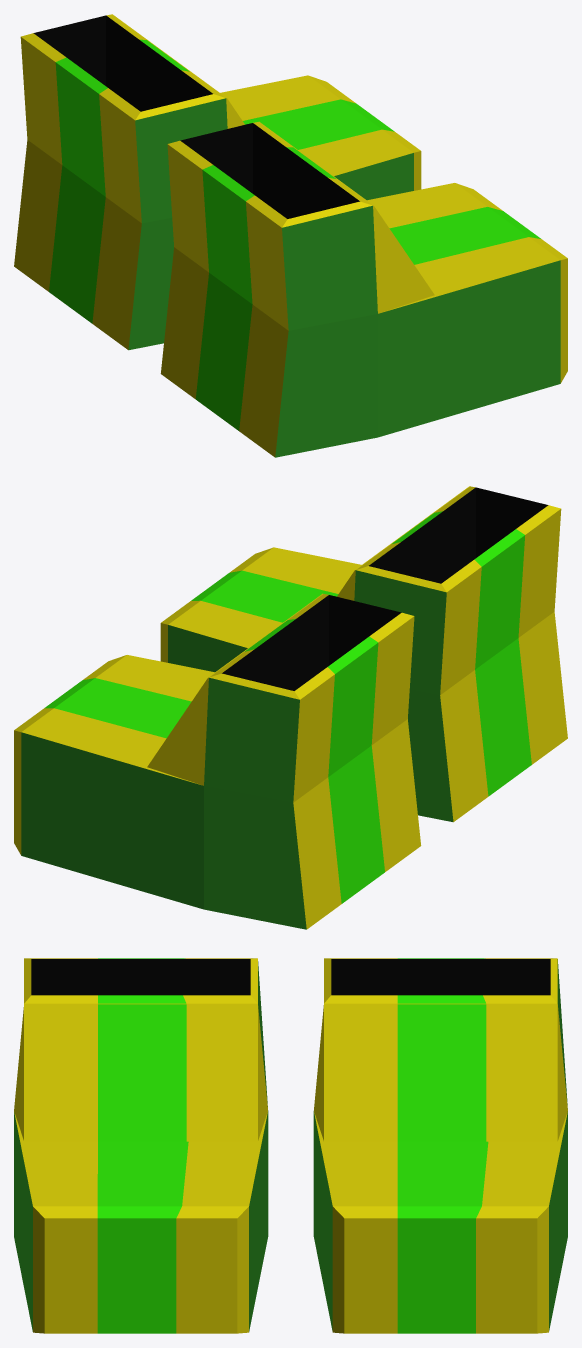
File: ZapatosVelocidad.fbx
3 views of the same model, one above another, from view 1: azimuth 30°, elevation 25°; view 2: azimuth 150°, elevation 25°; view 3: azimuth 270°, elevation 25° (orthographic). The views are drawn at different scales.
Visible parts, largest first — view 1: Cube.003, Cube, Cube.007, Cube.001, Cube.006, Cube.004, Cube.005, Cube.002; view 2: Cube.004, Cube.007, Cube, Cube.006, Cube.001, Cube.003, Cube.002, Cube.005; view 3: Cube.007, Cube, Cube.006, Cube.001, Cube.002, Cube.005, Cube.004, Cube.003.
Boxes of the visible parts, box(x1,y1,x2,y2) form: Cube.003: box(275, 205, 560, 457); Cube: box(160, 121, 567, 457); Cube.007: box(14, 14, 421, 349); Cube.001: box(195, 147, 540, 430); Cube.006: box(49, 39, 394, 323); Cube.004: box(128, 98, 413, 350); Cube.005: box(33, 15, 212, 111); Cube.002: box(180, 123, 359, 218); Cube.004: box(21, 677, 306, 929); Cube.007: box(14, 593, 421, 929); Cube: box(160, 486, 567, 821); Cube.006: box(44, 619, 384, 903); Cube.001: box(191, 511, 531, 796); Cube.003: box(168, 570, 453, 821); Cube.002: box(369, 487, 548, 583); Cube.005: box(222, 595, 401, 690); Cube.007: box(314, 958, 567, 1333); Cube: box(14, 958, 267, 1333); Cube.006: box(397, 958, 488, 1333); Cube.001: box(97, 958, 188, 1333); Cube.002: box(31, 959, 250, 995); Cube.005: box(331, 959, 550, 995); Cube.004: box(313, 959, 567, 1330); Cube.003: box(14, 961, 268, 1331).
Bounding box in the file's own units: 205 × 150 × 317.
